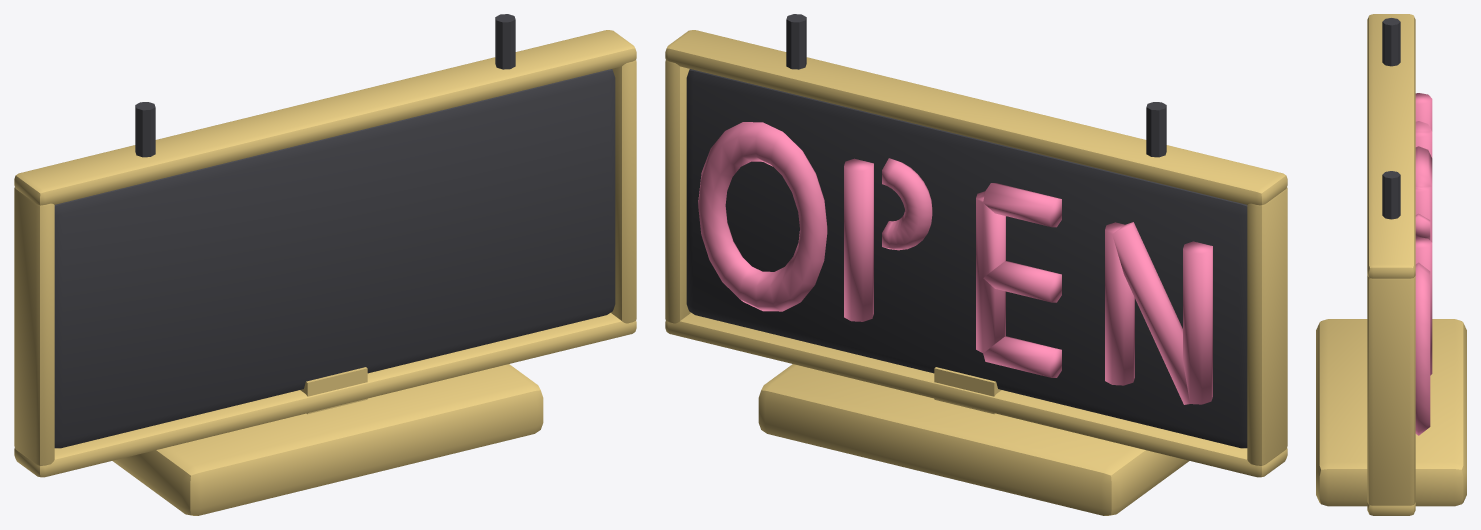
The model's file is Hangout.fbx.
3 renders of one model, left to right at view 1: azimuth 30°, elevation 25°; view 2: azimuth 150°, elevation 25°; view 3: azimuth 270°, elevation 25°, orthographic. The views are drawn at different scales.
Visible parts, largest first — view 1: Body.005, Trim.004; view 2: Body.005, Trim.004, Glow; view 3: Trim.004, Glow, Body.005.
Boxes of the visible parts, <box> form: Body.005: <box>54,14,615,448</box>; Trim.004: <box>14,30,636,515</box>; Body.005: <box>686,14,1247,448</box>; Trim.004: <box>665,30,1287,515</box>; Glow: <box>698,122,1212,404</box>; Trim.004: <box>1316,14,1466,515</box>; Glow: <box>1415,93,1432,435</box>; Body.005: <box>1382,18,1400,219</box>.
Bounding box in the file's own units: 2 × 1.23 × 0.5.
